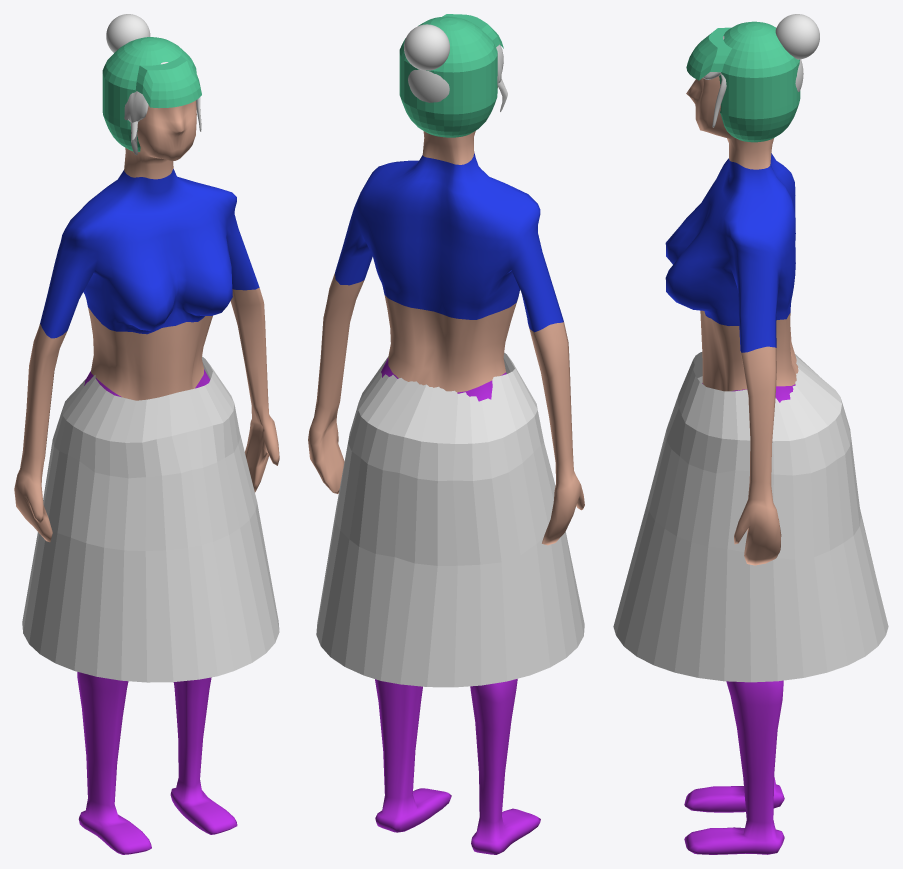
The model's file is 2karakter.fbx.
3 views of the same model, side by side, from view 1: azimuth 30°, elevation 25°; view 2: azimuth 150°, elevation 25°; view 3: azimuth 270°, elevation 25° (orthographic). The views are drawn at different scales.
Visible parts, largest first — view 1: Cylinder, Cube, Sphere.001, Cube.001; view 2: Cylinder, Cube, Sphere.001, Cube.001; view 3: Cylinder, Cube, Sphere.001, Cube.001.
Part boxes in pixels (x1,y1,x2,y2): Cylinder: [22, 356, 279, 682]; Cube: [14, 100, 279, 854]; Sphere.001: [102, 37, 201, 151]; Cube.001: [106, 14, 201, 155]; Cylinder: [316, 352, 584, 687]; Cube: [308, 86, 584, 854]; Sphere.001: [399, 14, 503, 137]; Cube.001: [404, 24, 507, 111]; Cylinder: [613, 352, 888, 682]; Cube: [665, 76, 798, 854]; Sphere.001: [686, 21, 800, 142]; Cube.001: [703, 14, 819, 127].
Bounding box in the file's own units: 219 × 652 × 200.
